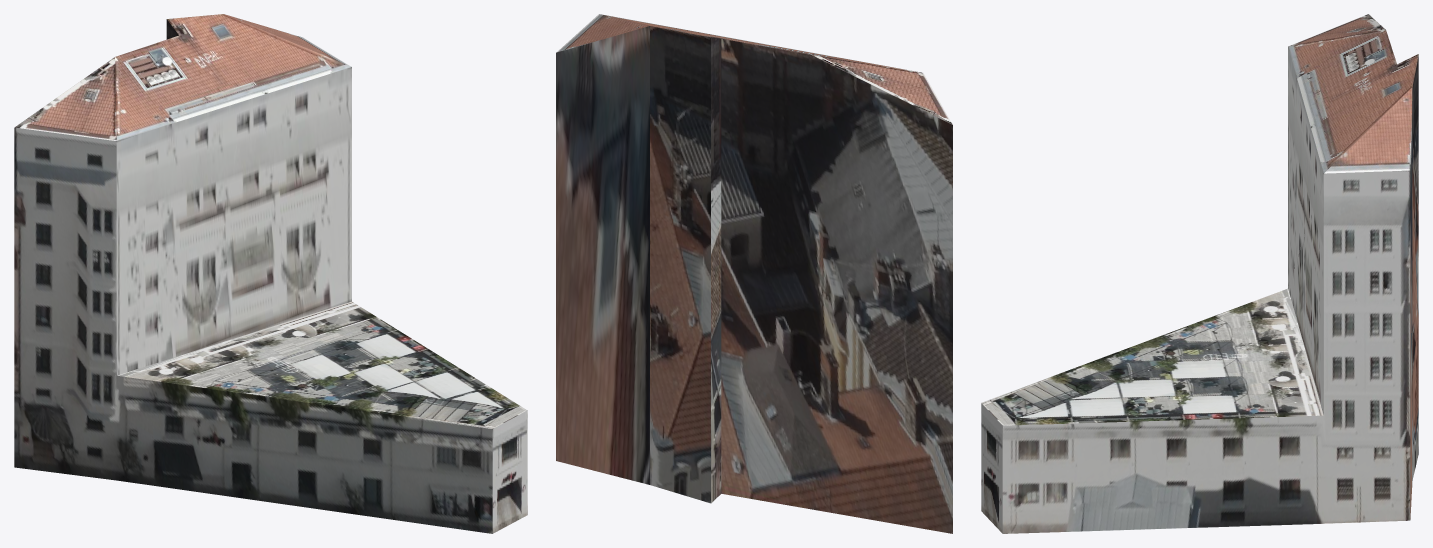
The picture shows the model from 3 angles, left to right: view 1: azimuth 30°, elevation 25°; view 2: azimuth 150°, elevation 25°; view 3: azimuth 270°, elevation 25°; orthographic projection. The views are drawn at different scales.
Visible parts, largest first — view 1: Z_UP; view 2: Z_UP; view 3: Z_UP.
Part boxes in pixels (<box>): Z_UP: <box>14,14,527,533</box>; Z_UP: <box>556,14,952,533</box>; Z_UP: <box>981,14,1418,533</box>.
Size of the model in its own units: 28.67 by 31.6 by 31.34.
Materials: 2 (1 with a texture image).
